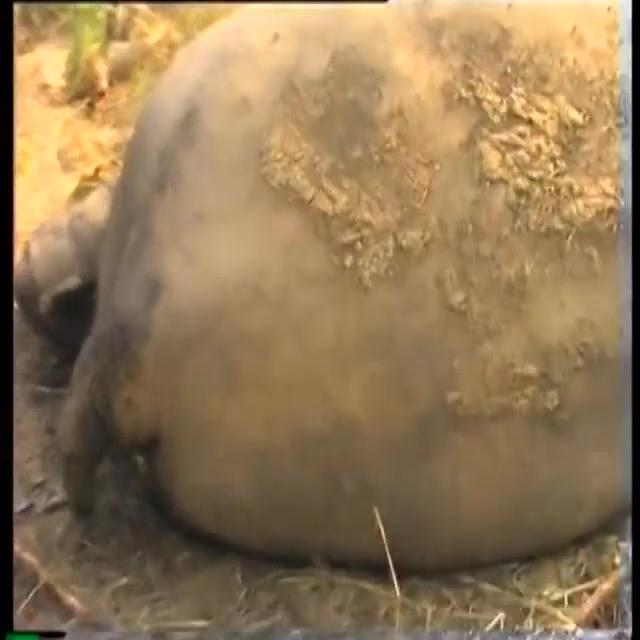Elephant: (67, 18, 639, 529)
